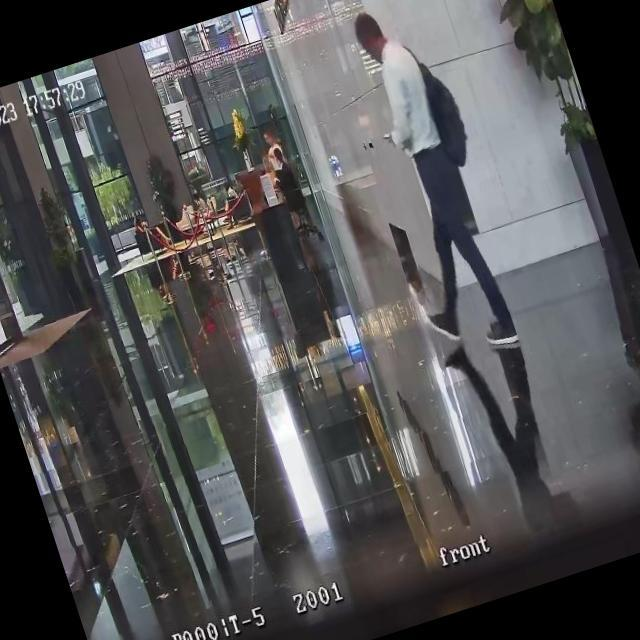person: (331, 0, 520, 366), (266, 144, 303, 208), (212, 178, 248, 232), (134, 209, 174, 257), (262, 128, 288, 169)
